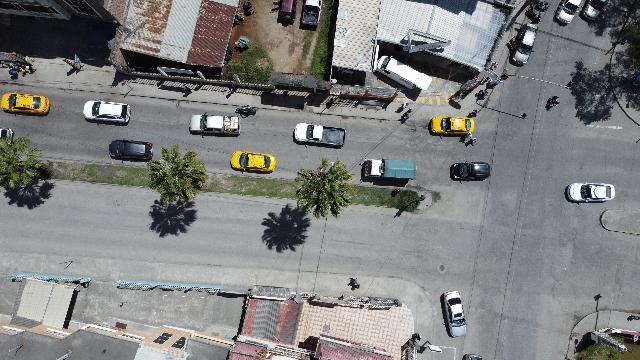Vehiculo: (376, 56, 432, 90), (292, 124, 346, 148), (0, 92, 50, 116), (84, 100, 130, 126), (441, 291, 467, 337), (510, 23, 538, 65), (230, 150, 276, 174), (190, 114, 240, 136), (565, 182, 615, 204), (109, 140, 153, 162), (428, 116, 474, 136), (450, 162, 490, 182), (556, 0, 582, 24), (301, 0, 321, 26), (582, 0, 606, 20), (279, 0, 297, 20), (0, 127, 14, 144), (462, 354, 482, 360)
